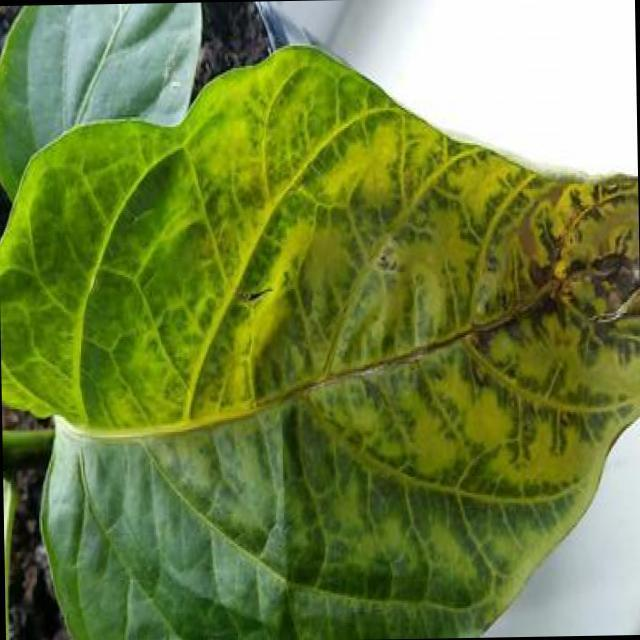Mosaic Virus: (14, 89, 626, 634)
